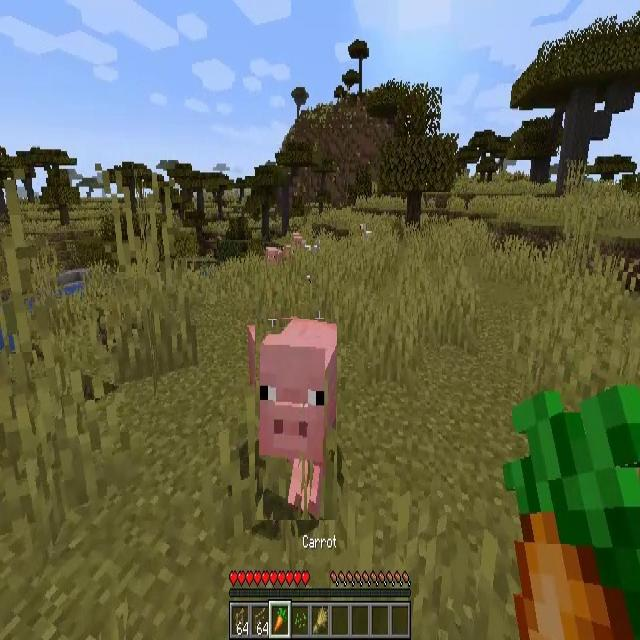duck: (360, 223, 373, 241)
pig: (255, 319, 337, 520), (266, 246, 283, 268)
